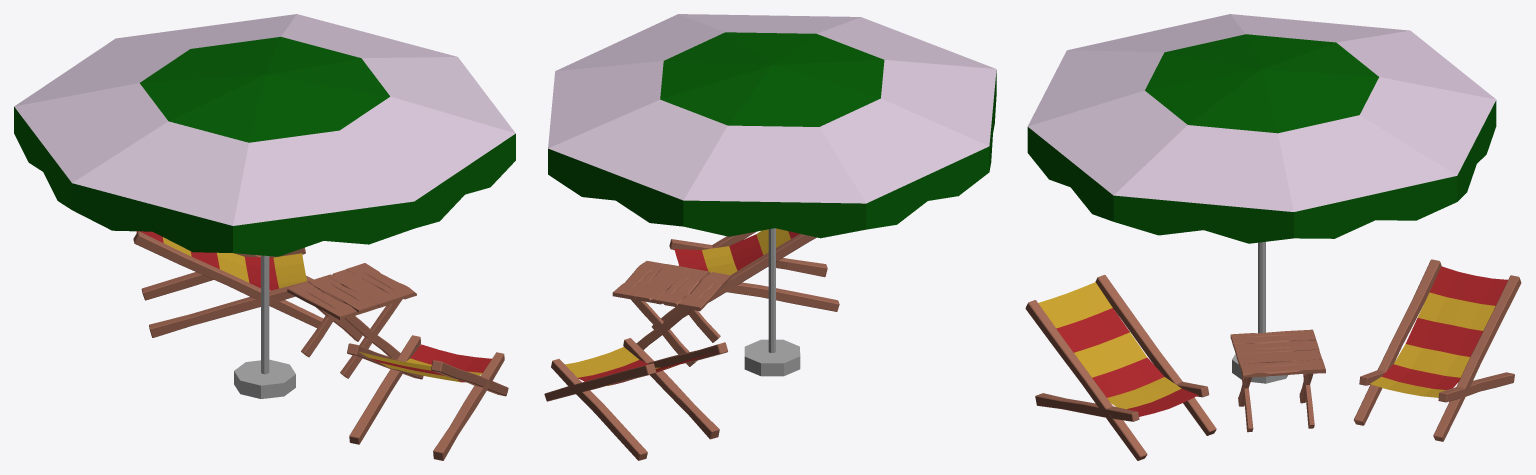
Rendered from BEACH_CHAIR.fbx.
3 views of the same model, side by side, from view 1: azimuth 30°, elevation 25°; view 2: azimuth 150°, elevation 25°; view 3: azimuth 270°, elevation 25° (orthographic). The views are drawn at different scales.
Visible parts, largest first — view 1: Object_36; view 2: Object_36; view 3: Object_36.
Part boxes in pixels (<box>): Object_36: <box>14,14,515,460</box>; Object_36: <box>544,14,996,460</box>; Object_36: <box>1025,14,1521,460</box>.
Size of the model in its own units: 149 by 109 by 158.
